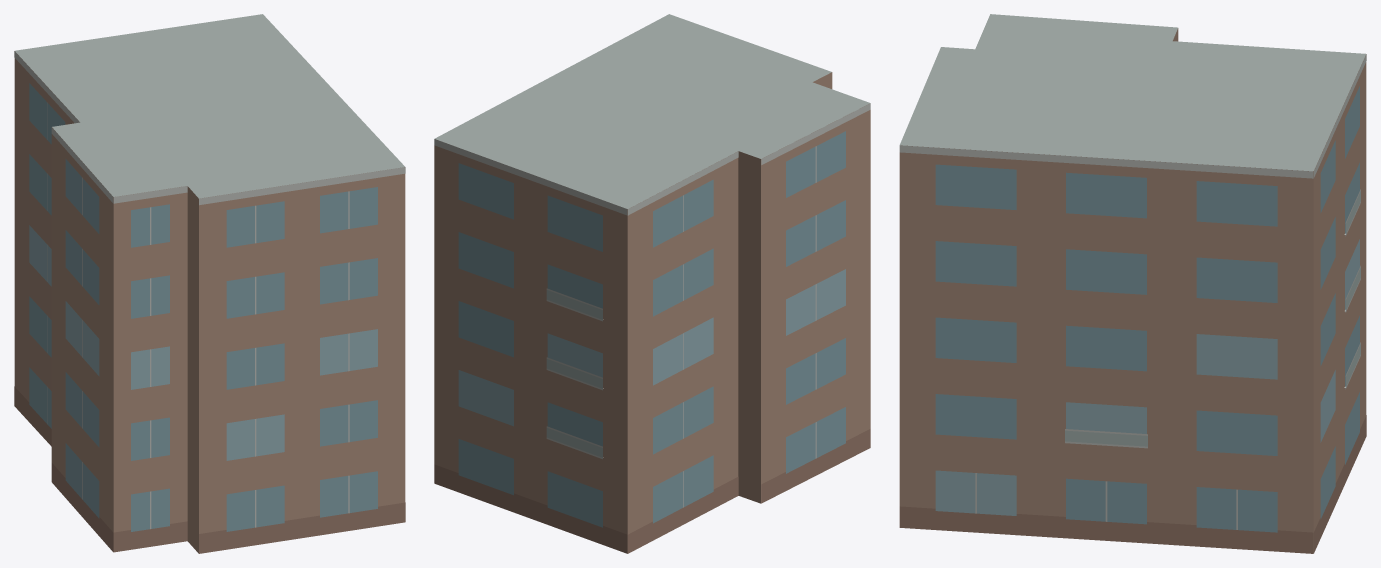
Rendered from survey-upis-32704918.glb.
The picture shows the model from 3 angles, left to right: view 1: azimuth 30°, elevation 25°; view 2: azimuth 150°, elevation 25°; view 3: azimuth 270°, elevation 25°; orthographic projection. The views are drawn at different scales.
Parts seen in each view (by area): view 1: survey-upis-32704918.tmp; view 2: survey-upis-32704918.tmp; view 3: survey-upis-32704918.tmp.
Boxes of the visible parts, box(x1,y1,x2,y2) form: survey-upis-32704918.tmp: box(14, 14, 405, 553); survey-upis-32704918.tmp: box(434, 14, 870, 553); survey-upis-32704918.tmp: box(899, 14, 1366, 553).
Bounding box in the file's own units: 11.48 × 13 × 14.39.
